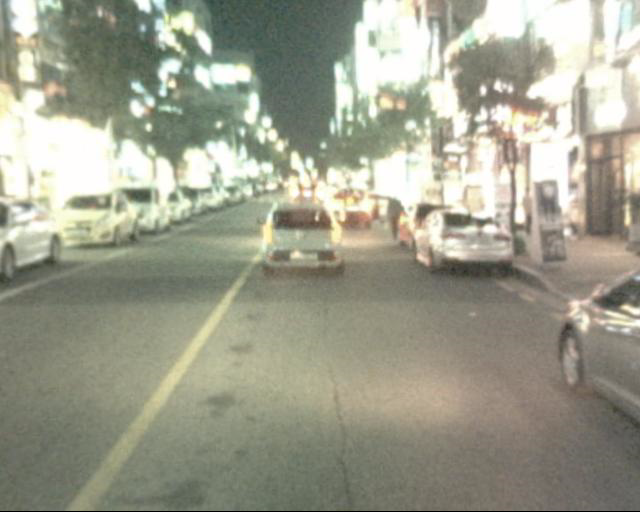person: (515, 181, 542, 247), (382, 195, 408, 253)
